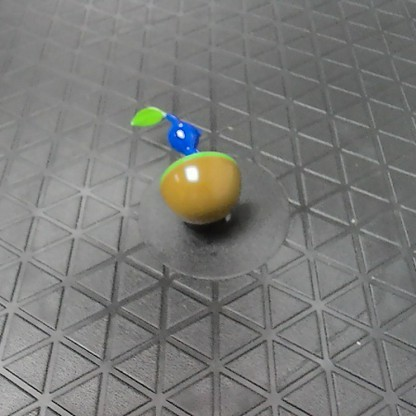leafairy: (127, 100, 242, 228)
